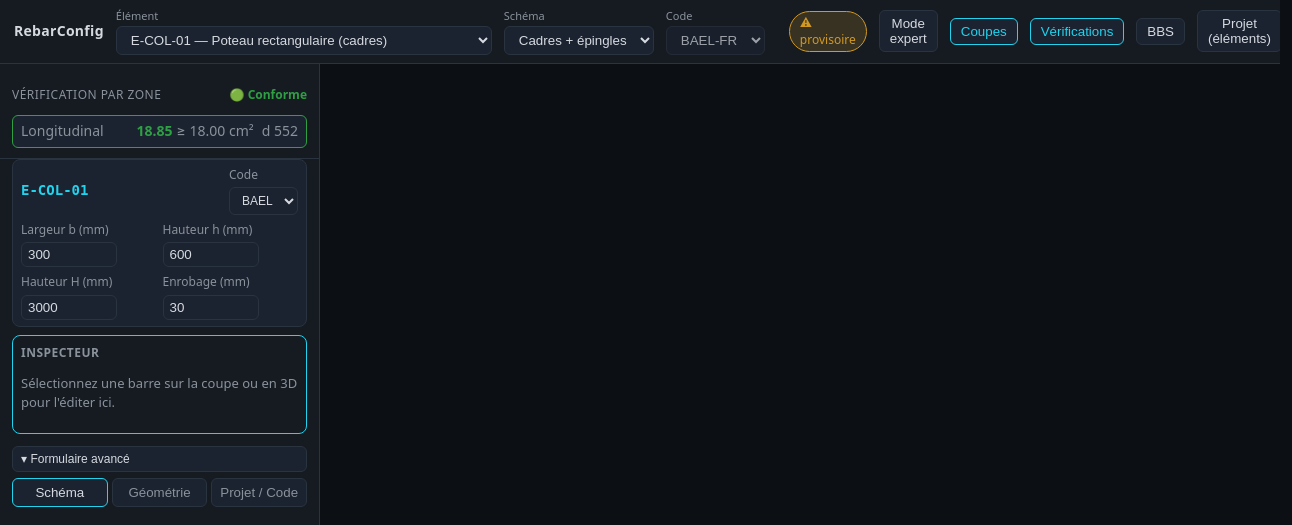
Test: P3 catalog + supplements UI › the expert toggle reveals the resolved bar-group list
expect the text "Liste des armatures" is not shown: met
Click the button "Mode expert" at (908, 32), box [879,10,938,52]
(page scrolled)
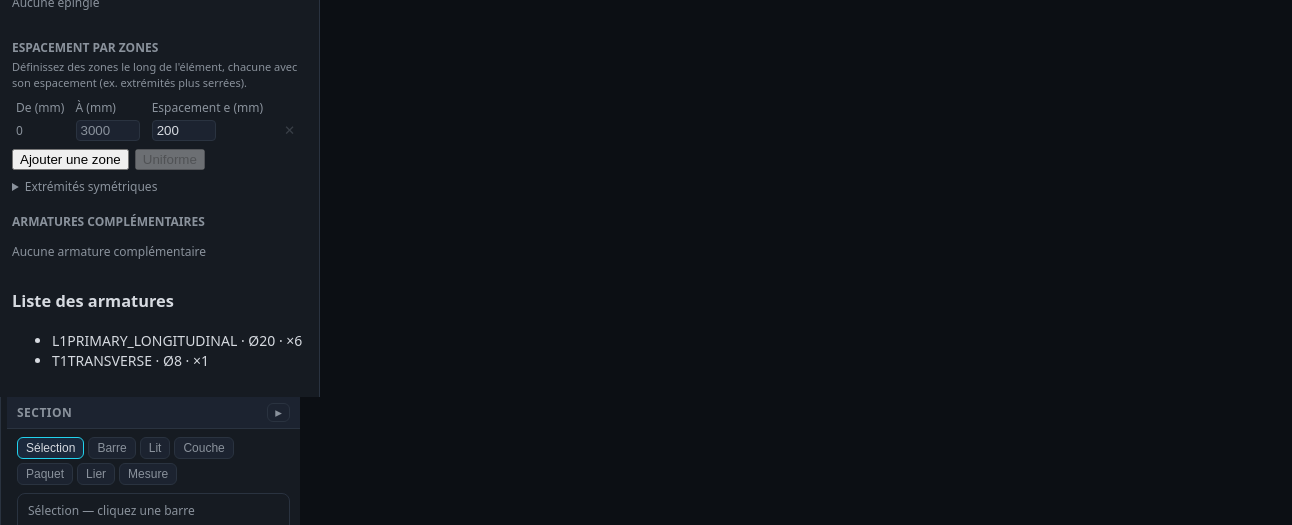
expect the heading "Liste des armatures" is shown: met, box [12,290,174,312]
expect the text "L1" is shown: met, box [52,331,67,350]
expect the text "T1" is shown: met, box [52,351,68,370]
